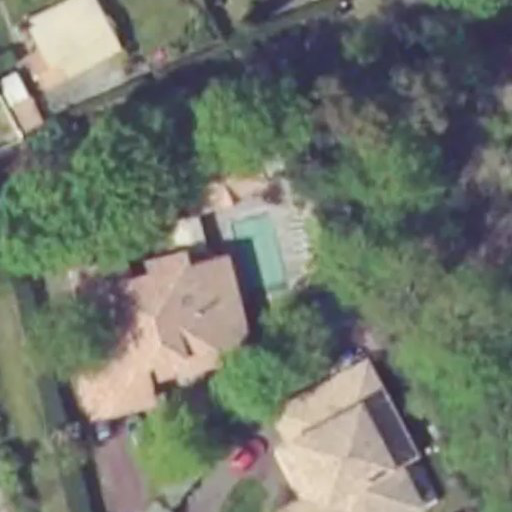pool: (228, 213, 283, 270)
